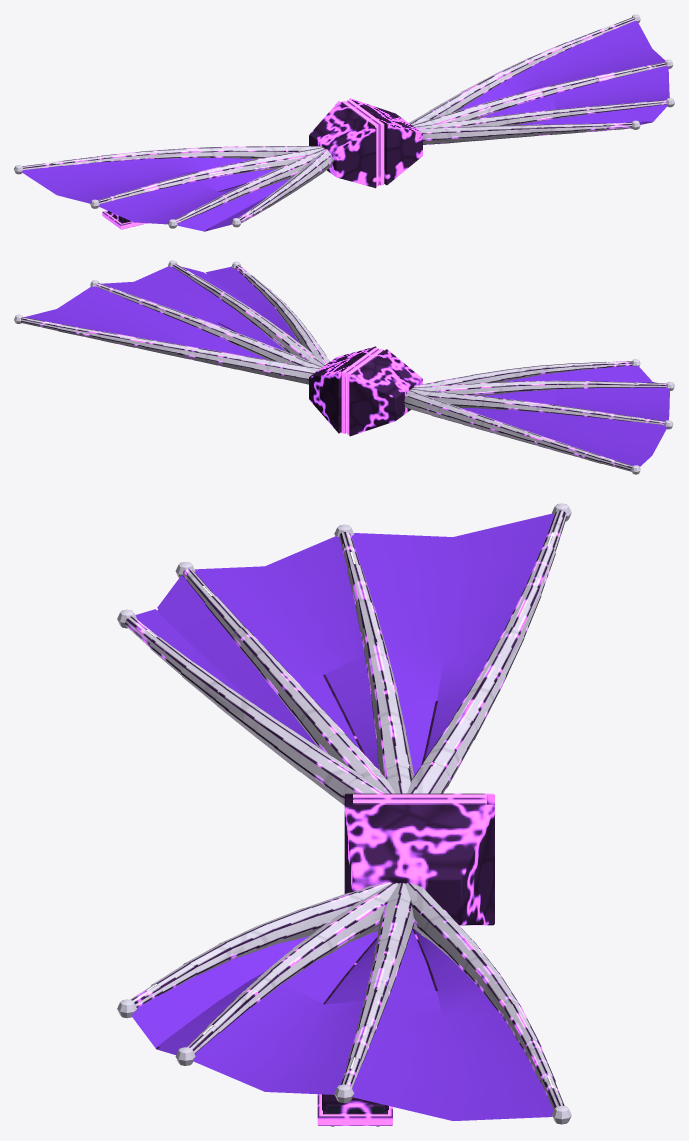
Rendered from ala_alien_t5.fbx.
The picture shows the model from 3 angles, top to bottom: view 1: azimuth 30°, elevation 25°; view 2: azimuth 150°, elevation 25°; view 3: azimuth 270°, elevation 25°; orthographic projection. The views are drawn at different scales.
Visible parts, largest first — view 1: ala_alien_t5_izq, ala_alien_t5_der, ala_alien_t5_izq_cristal, ala_alien_t5_der_cristal; view 2: ala_alien_t5_izq, ala_alien_t5_der, ala_alien_t5_der_cristal, ala_alien_t5_izq_cristal; view 3: ala_alien_t5_izq_cristal, ala_alien_t5_der_cristal, ala_alien_t5_der, ala_alien_t5_izq.
Boxes of the visible parts, bbox=[...] form: ala_alien_t5_izq: bbox=[14, 101, 378, 231]; ala_alien_t5_der: bbox=[347, 14, 674, 185]; ala_alien_t5_izq_cristal: bbox=[22, 158, 290, 231]; ala_alien_t5_der_cristal: bbox=[458, 21, 669, 125]; ala_alien_t5_izq: bbox=[347, 349, 674, 474]; ala_alien_t5_der: bbox=[14, 260, 378, 433]; ala_alien_t5_der_cristal: bbox=[24, 266, 298, 359]; ala_alien_t5_izq_cristal: bbox=[461, 365, 669, 466]; ala_alien_t5_izq_cristal: bbox=[135, 513, 554, 775]; ala_alien_t5_der_cristal: bbox=[131, 929, 553, 1120]; ala_alien_t5_der: bbox=[117, 799, 571, 1126]; ala_alien_t5_izq: bbox=[117, 503, 571, 805].
Bounding box in the file's own units: 17.24 × 1.6 × 5.43.
